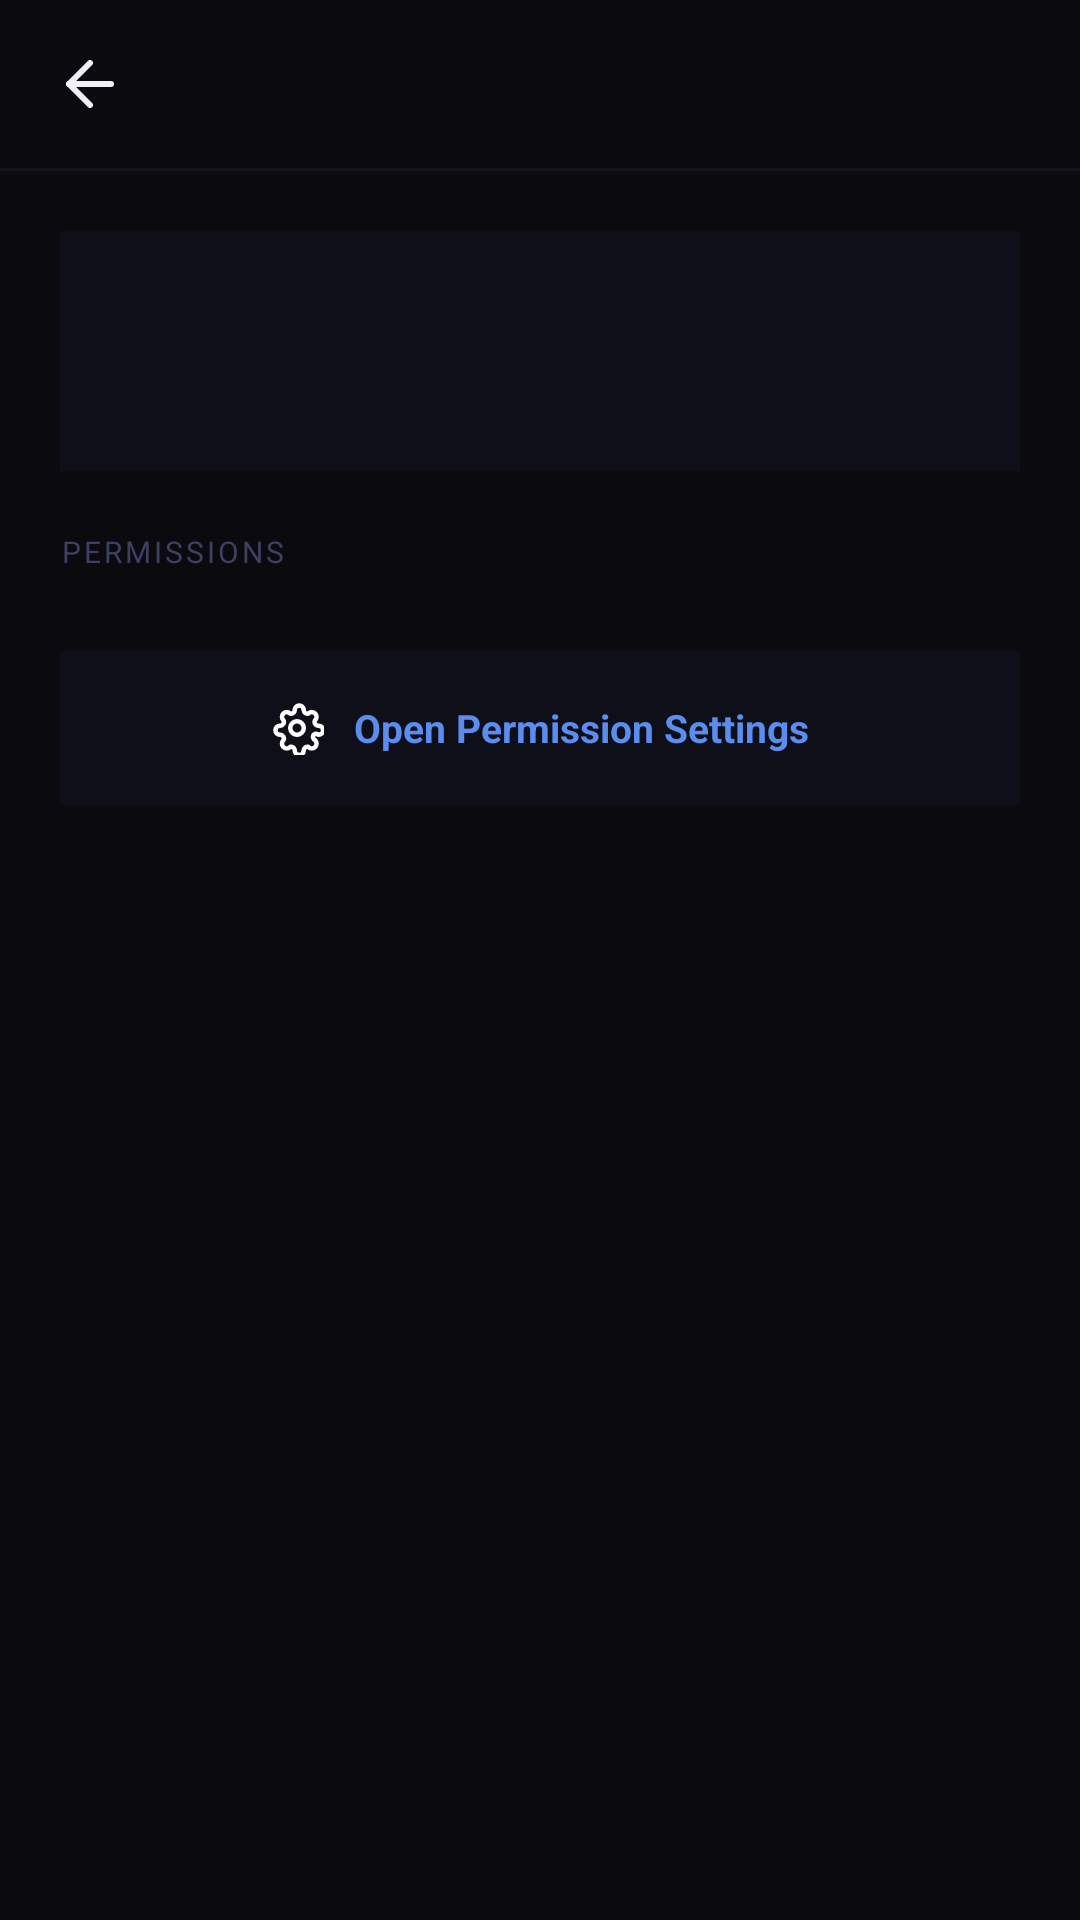

Icons on this 1080w x 1920h Android screen, each with its box as (x1, y1, x2, y2):
arrow back: (66, 60, 114, 108)
